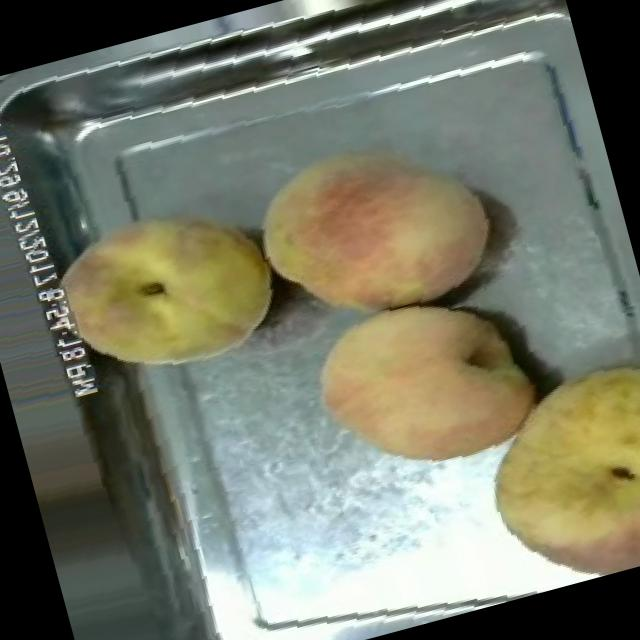Fruit: (230, 106, 516, 350), (288, 266, 564, 504), (31, 176, 298, 404), (448, 333, 640, 601)
